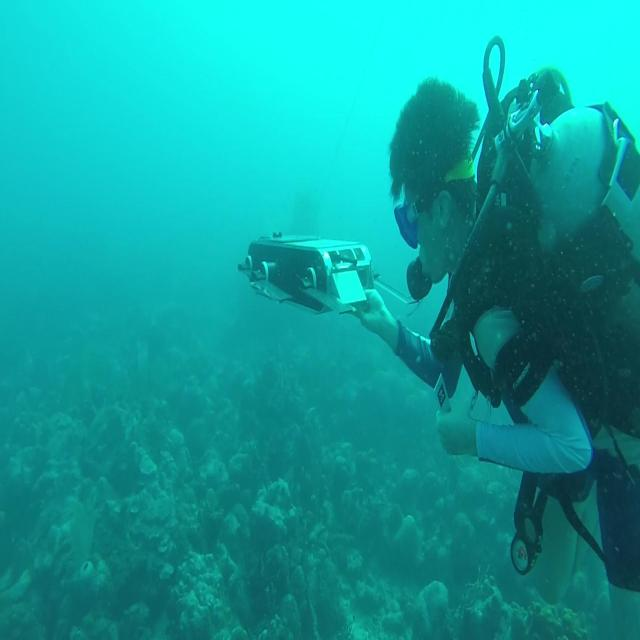human: (341, 59, 639, 596)
